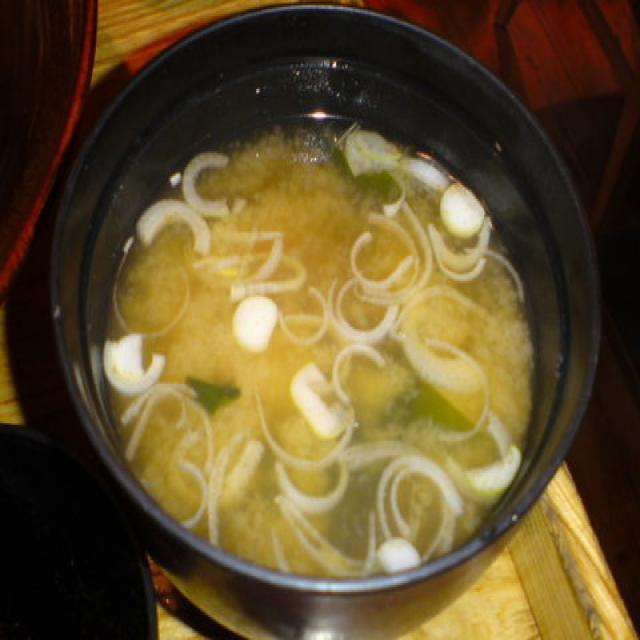汤锅炖物: (44, 27, 548, 592)
